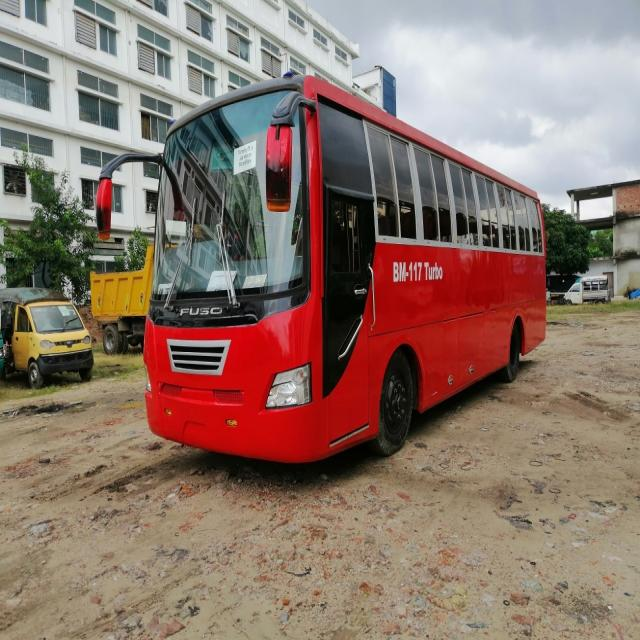bus: (47, 38, 579, 499)
